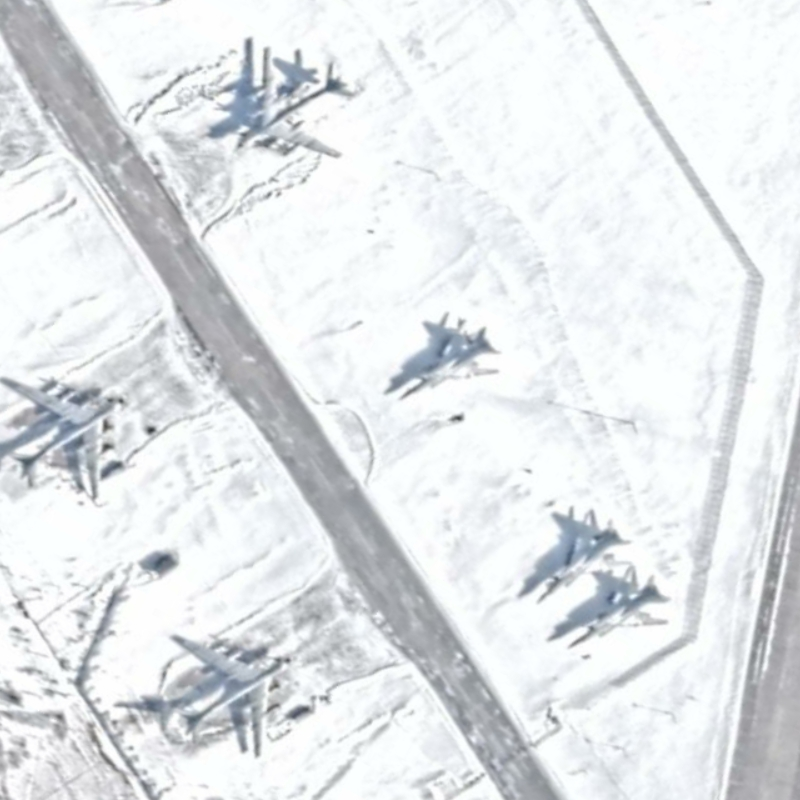A12: (566, 564, 669, 652), (534, 519, 630, 604), (397, 325, 502, 401)
A17: (10, 381, 127, 503), (180, 636, 296, 759), (233, 45, 358, 159)
